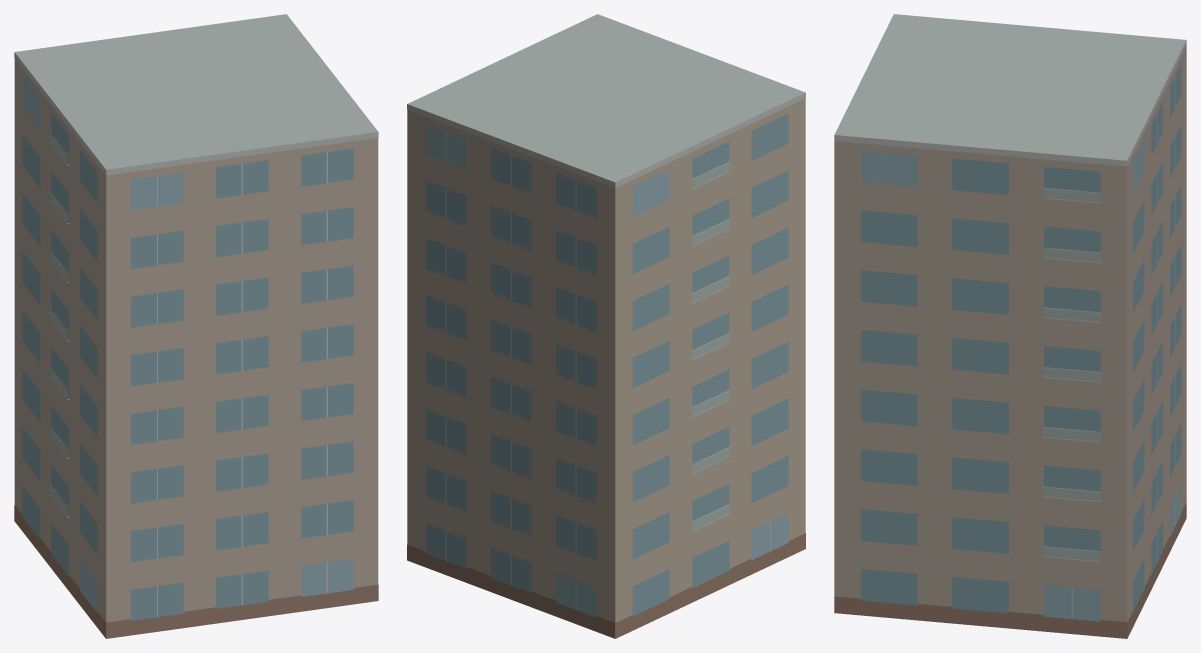
The model's file is survey-upis-32652848.glb.
3 renders of one model, left to right at view 1: azimuth 30°, elevation 25°; view 2: azimuth 150°, elevation 25°; view 3: azimuth 270°, elevation 25°, orthographic. The views are drawn at different scales.
Visible parts, largest first — view 1: survey-upis-32652848.tmp; view 2: survey-upis-32652848.tmp; view 3: survey-upis-32652848.tmp.
Boxes of the visible parts, x1=… form: survey-upis-32652848.tmp: x1=14, y1=14, x2=378, y2=638; survey-upis-32652848.tmp: x1=407, y1=14, x2=805, y2=638; survey-upis-32652848.tmp: x1=834, y1=14, x2=1186, y2=638.
Size of the model in its own units: 12.98 by 19.7 by 13.17.
